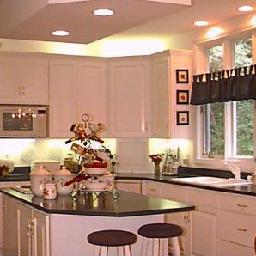Lavaplatos: (174, 160, 253, 196)
